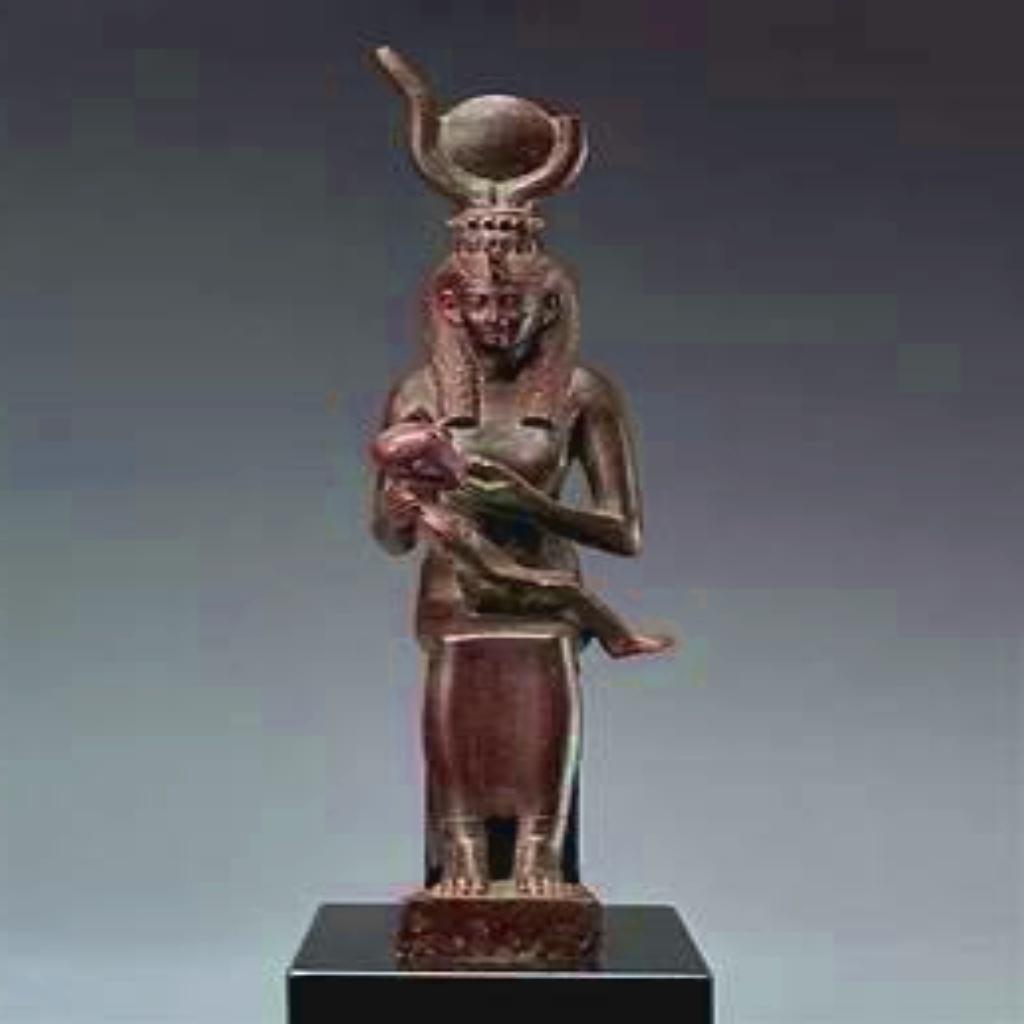Isis with her child: (350, 37, 682, 966)
